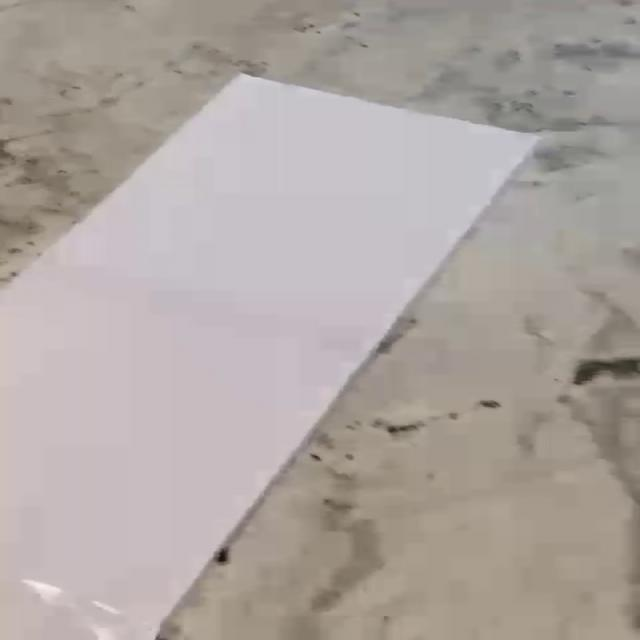road: (1, 76, 536, 640)
